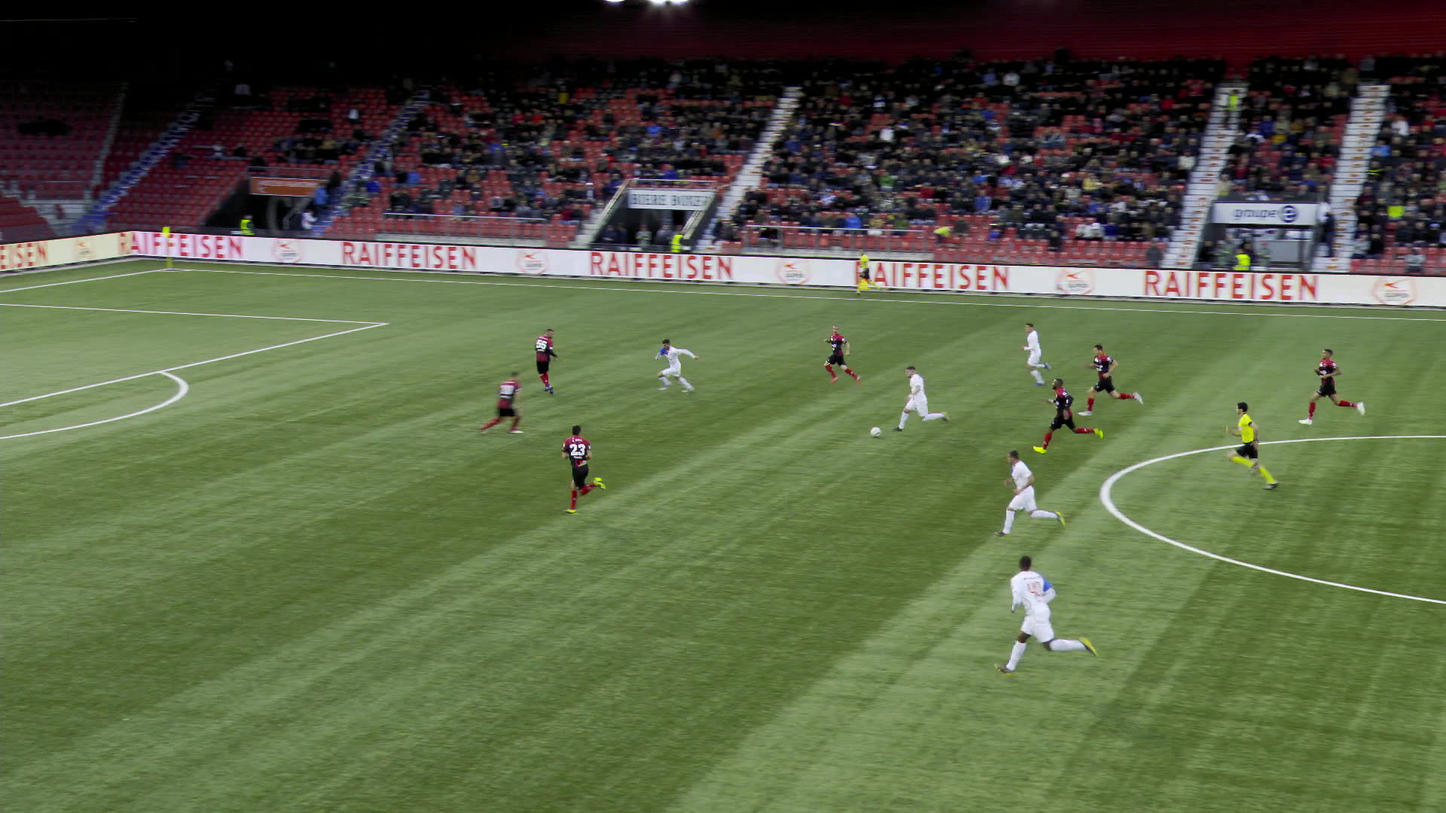ball: (871, 427, 880, 436)
player: (993, 555, 1097, 676), (994, 450, 1065, 537), (1033, 377, 1104, 452), (1298, 349, 1365, 425), (1078, 343, 1142, 416), (562, 425, 606, 515), (891, 366, 948, 431), (479, 370, 524, 434), (654, 339, 698, 393), (822, 323, 859, 383), (1020, 323, 1051, 385), (534, 328, 557, 394)
referee: (1222, 401, 1278, 489), (855, 249, 879, 296)
